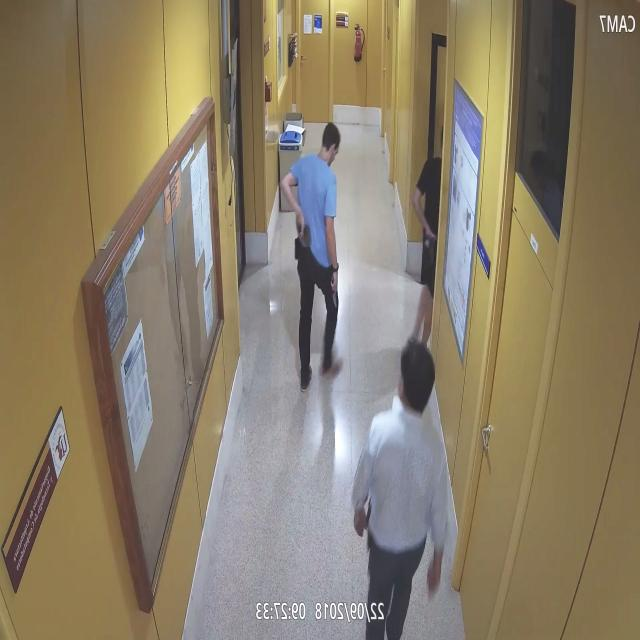knife: (328, 274, 337, 309)
pistol: (296, 220, 312, 252), (424, 232, 436, 264)
